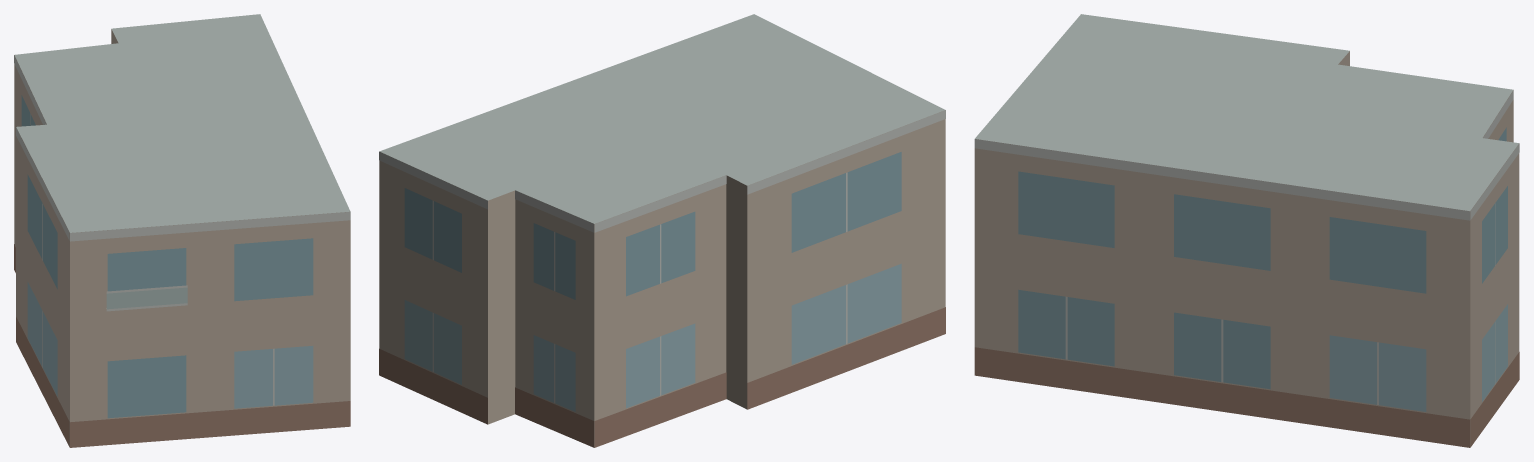
File: survey-upis-32878288.glb
3 views of the same model, side by side, from view 1: azimuth 30°, elevation 25°; view 2: azimuth 150°, elevation 25°; view 3: azimuth 270°, elevation 25° (orthographic). The views are drawn at different scales.
Visible parts, largest first — view 1: survey-upis-32878288.tmp; view 2: survey-upis-32878288.tmp; view 3: survey-upis-32878288.tmp.
Boxes of the visible parts, bbox=[...] form: survey-upis-32878288.tmp: bbox=[14, 14, 350, 447]; survey-upis-32878288.tmp: bbox=[379, 14, 945, 447]; survey-upis-32878288.tmp: bbox=[974, 14, 1519, 447].
Bounding box in the file's own units: 10.91 × 6.1 × 12.74.
